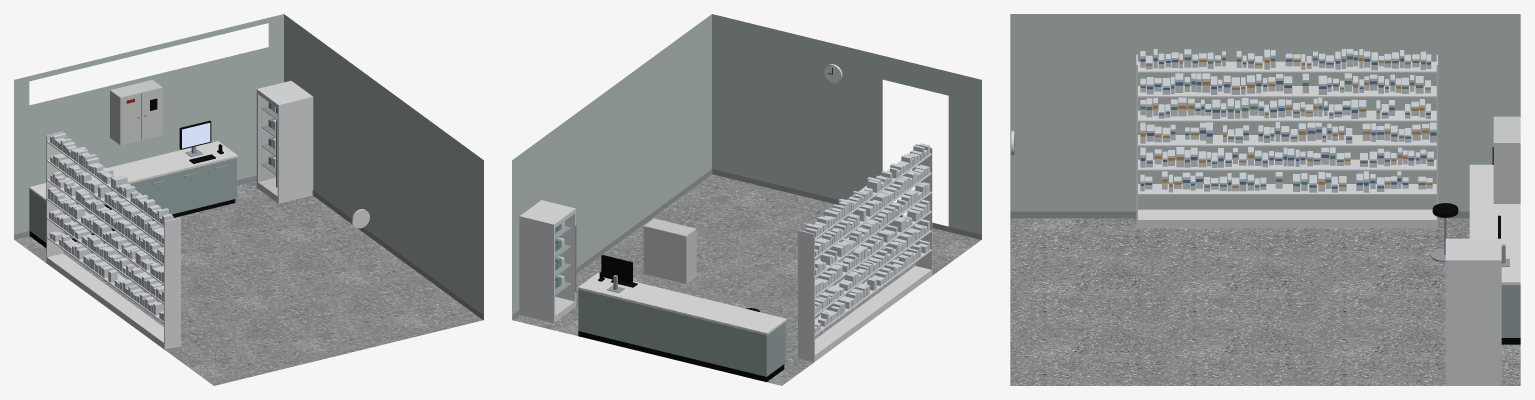
File: room-records.glb
The picture shows the model from 3 angles, left to right: view 1: azimuth 30°, elevation 25°; view 2: azimuth 150°, elevation 25°; view 3: azimuth 270°, elevation 25°; orthographic projection. The views are drawn at different scales.
Parts seen in each view (by area): view 1: records_shell, records_packs, records_shelving, records_counter, records_fridge, records_register, glass_records_fridge, screen_dd-drugs-register; view 2: records_shell, records_counter, records_packs, records_shelving, records_fridge, records_register, glass_records_fridge; view 3: records_shell, records_packs, records_shelving, records_fridge, records_counter, records_register.
Boxes of the visible parts, x1=… form: records_shell: x1=14, y1=14, x2=483, y2=385; records_packs: x1=48, y1=102, x2=277, y2=321; records_shelving: x1=46, y1=131, x2=180, y2=349; records_counter: x1=29, y1=141, x2=238, y2=247; records_fridge: x1=256, y1=80, x2=313, y2=203; records_register: x1=110, y1=80, x2=223, y2=163; glass_records_fridge: x1=258, y1=96, x2=276, y2=195; screen_dd-drugs-register: x1=182, y1=123, x2=210, y2=148; records_shell: x1=512, y1=14, x2=981, y2=385; records_counter: x1=578, y1=272, x2=786, y2=382; records_packs: x1=555, y1=143, x2=929, y2=333; records_shelving: x1=798, y1=144, x2=932, y2=362; records_fridge: x1=519, y1=200, x2=576, y2=322; records_register: x1=598, y1=218, x2=696, y2=292; glass_records_fridge: x1=556, y1=215, x2=574, y2=314; records_shell: x1=1010, y1=14, x2=1520, y2=385; records_packs: x1=1140, y1=49, x2=1436, y2=192; records_shelving: x1=1136, y1=54, x2=1437, y2=227; records_fridge: x1=1445, y1=238, x2=1501, y2=385; records_counter: x1=1430, y1=164, x2=1520, y2=344; records_register: x1=1492, y1=116, x2=1520, y2=266.
Size of the model in its own units: 5.3 by 3 by 6.8.
18 materials, 1 textured.
